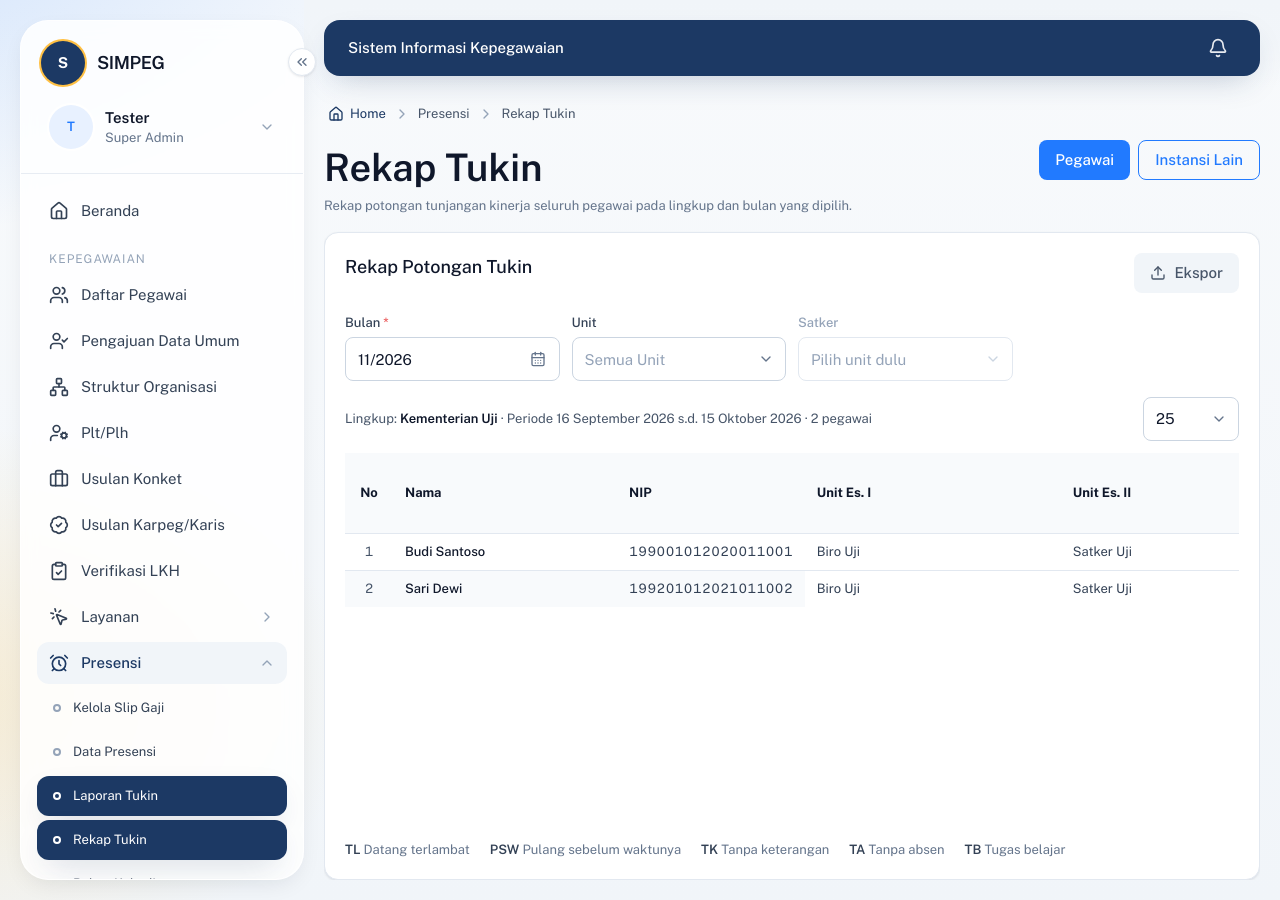
Scenario: RekapTukinPage › ekspor PDF di atas batas / lingkup 0 → 422 unit_satker tampil sebagai pesan, tanpa menyimpan
The image size is (1280, 900).
Click the button with test id "export-trigger" at (1187, 273), box [1134,253,1239,293]
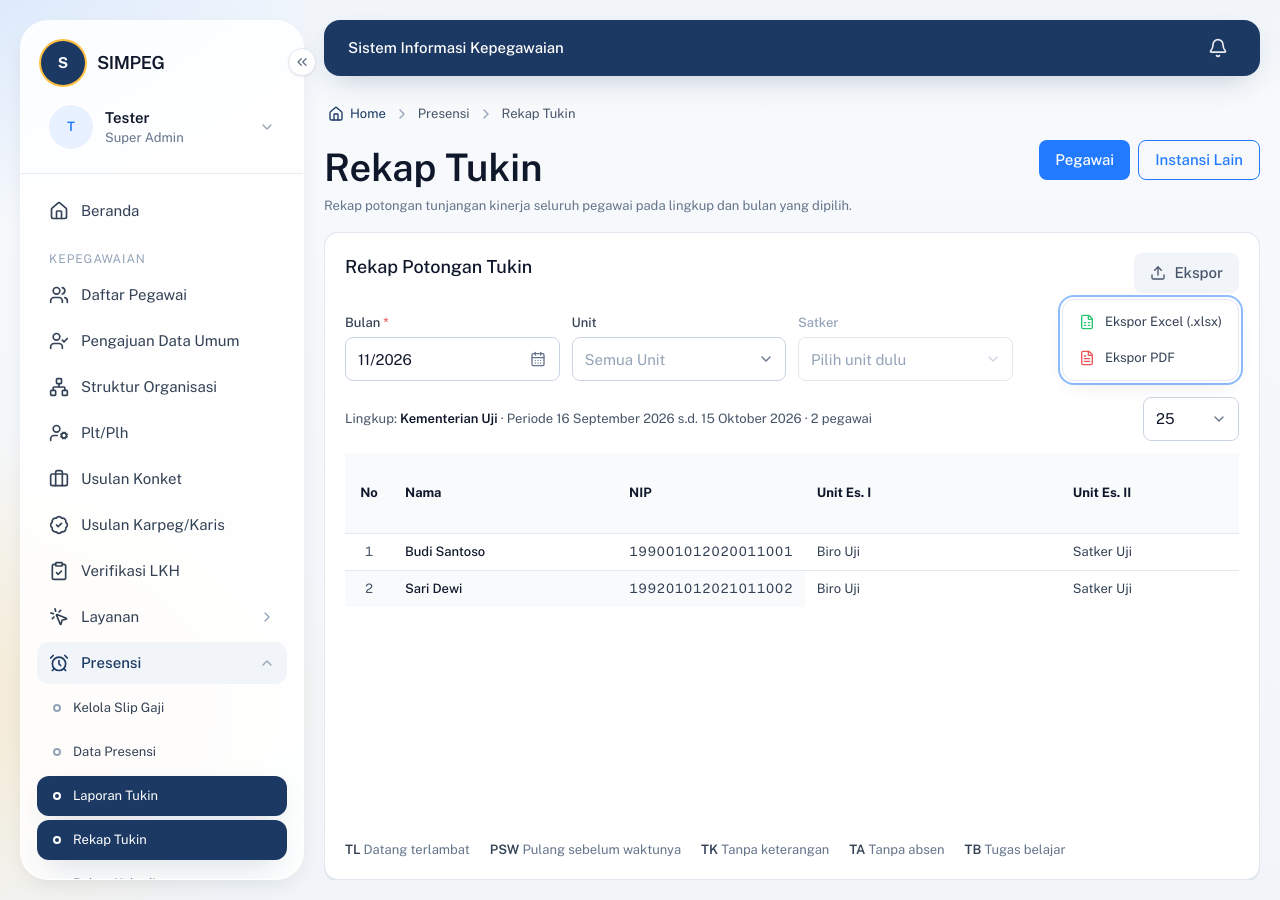
Click the menu item "Ekspor PDF" at (1127, 358), box [1079,350,1175,366]
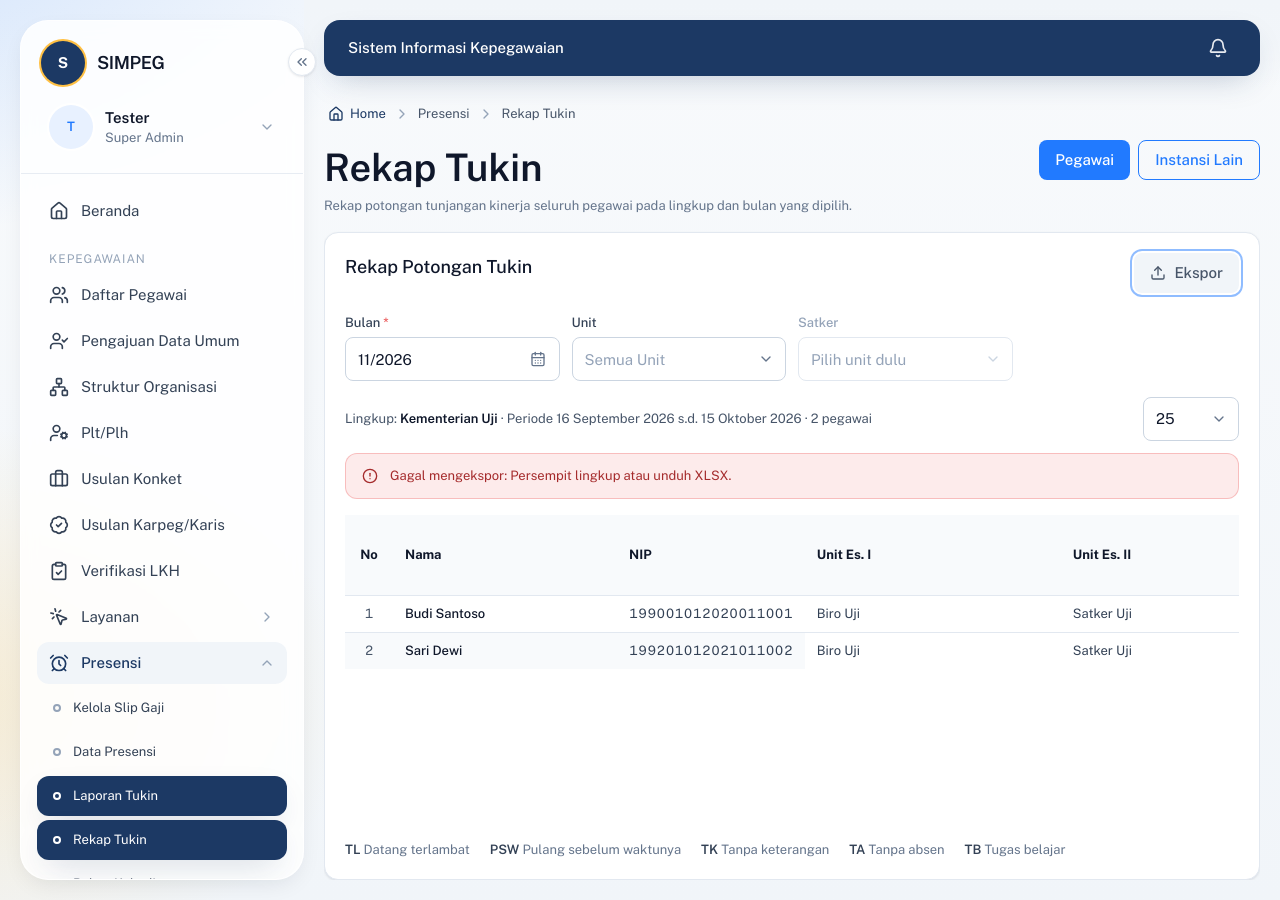
Result: the message with test id "rekap-ekspor-galat" shows "Persempit lingkup atau unduh XLSX." at [390,468,731,483]
